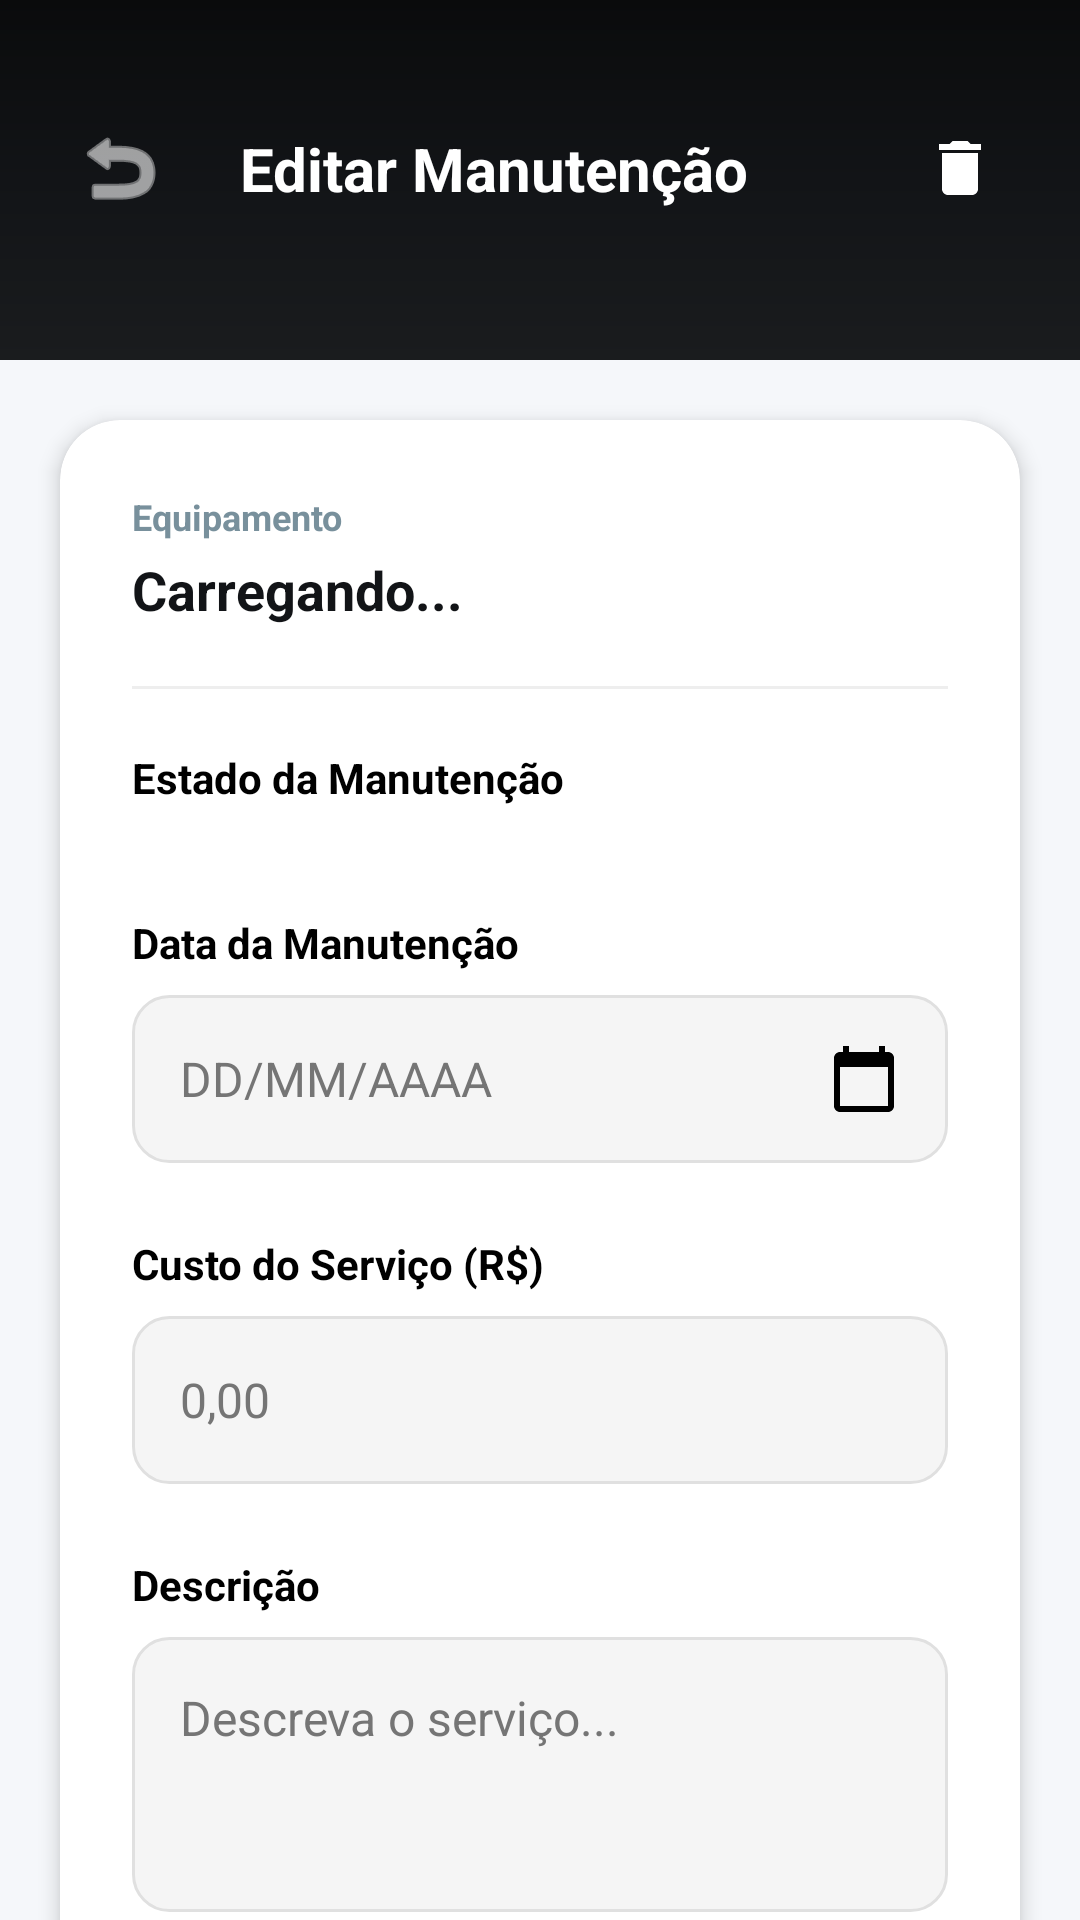

Icon bounding boxes for this 1080 x 1920 phone screenshot, format (x1, y1, x2, y2):
delete: (939, 141, 981, 195)
revert: (87, 137, 156, 200)
